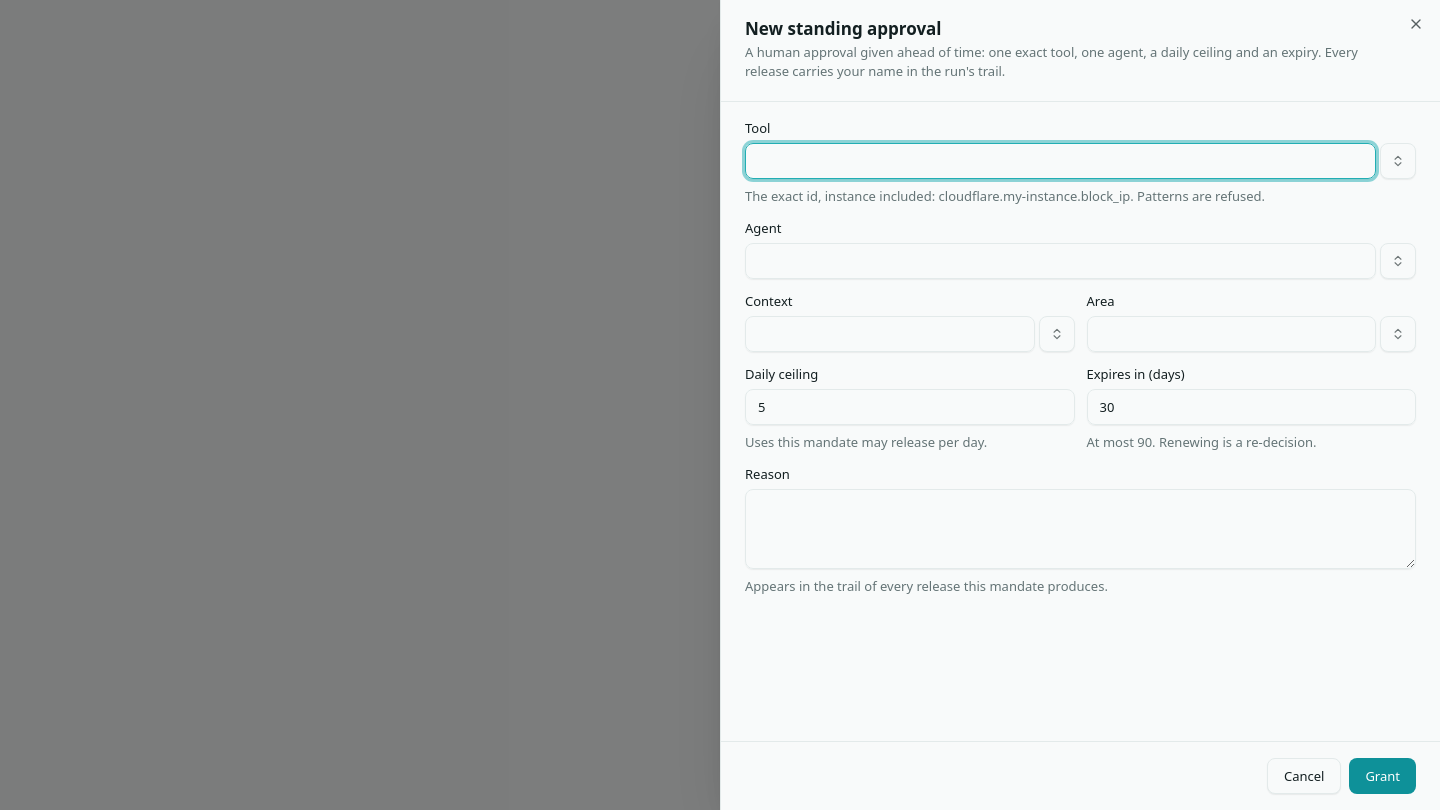
the standing approval form › offers the governed tools and the agents
Step 1. Click the dropdown named "Suggest governed tools" → (1398, 161), box x1=1380 y1=143 x2=1416 y2=179
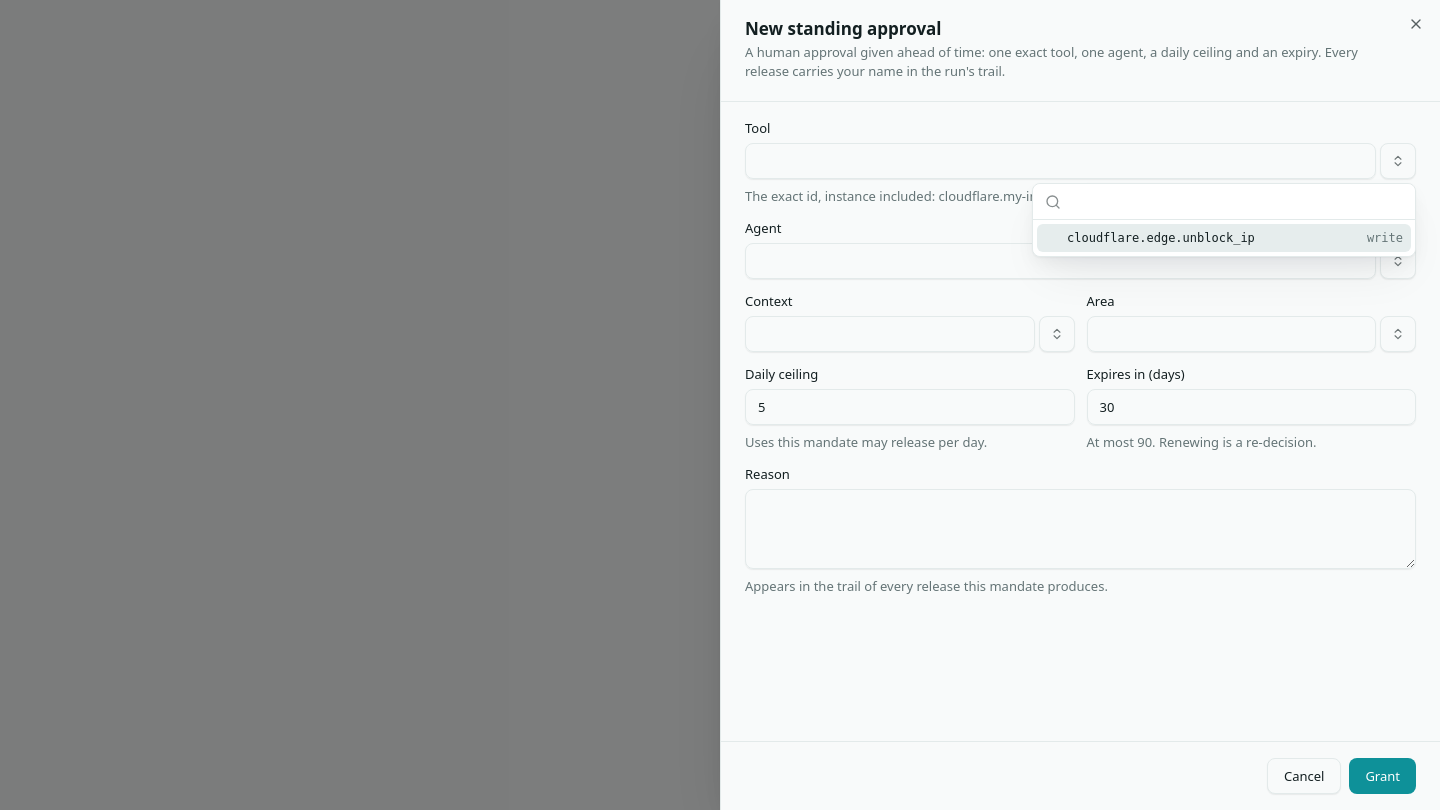
Step 2. Click the text "cloudflare.edge.unblock_ip" → (1161, 238), box x1=1067 y1=230 x2=1255 y2=246
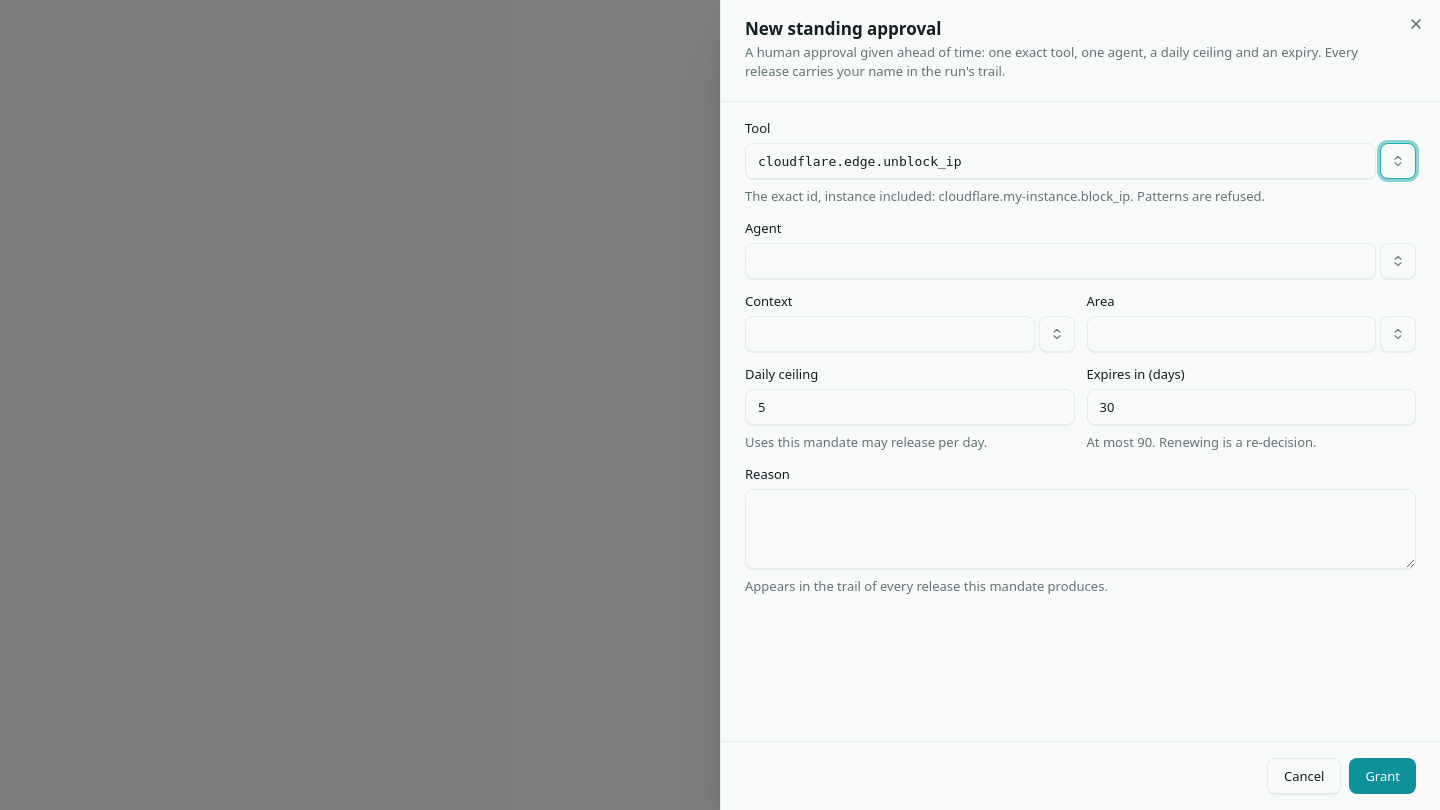
Expected: the field labelled "Tool" holds "cloudflare.edge.unblock_ip", x1=745 y1=143 x2=1376 y2=179
Step 3. Click the dropdown named "Suggest agents" → (1398, 261), box x1=1380 y1=243 x2=1416 y2=279
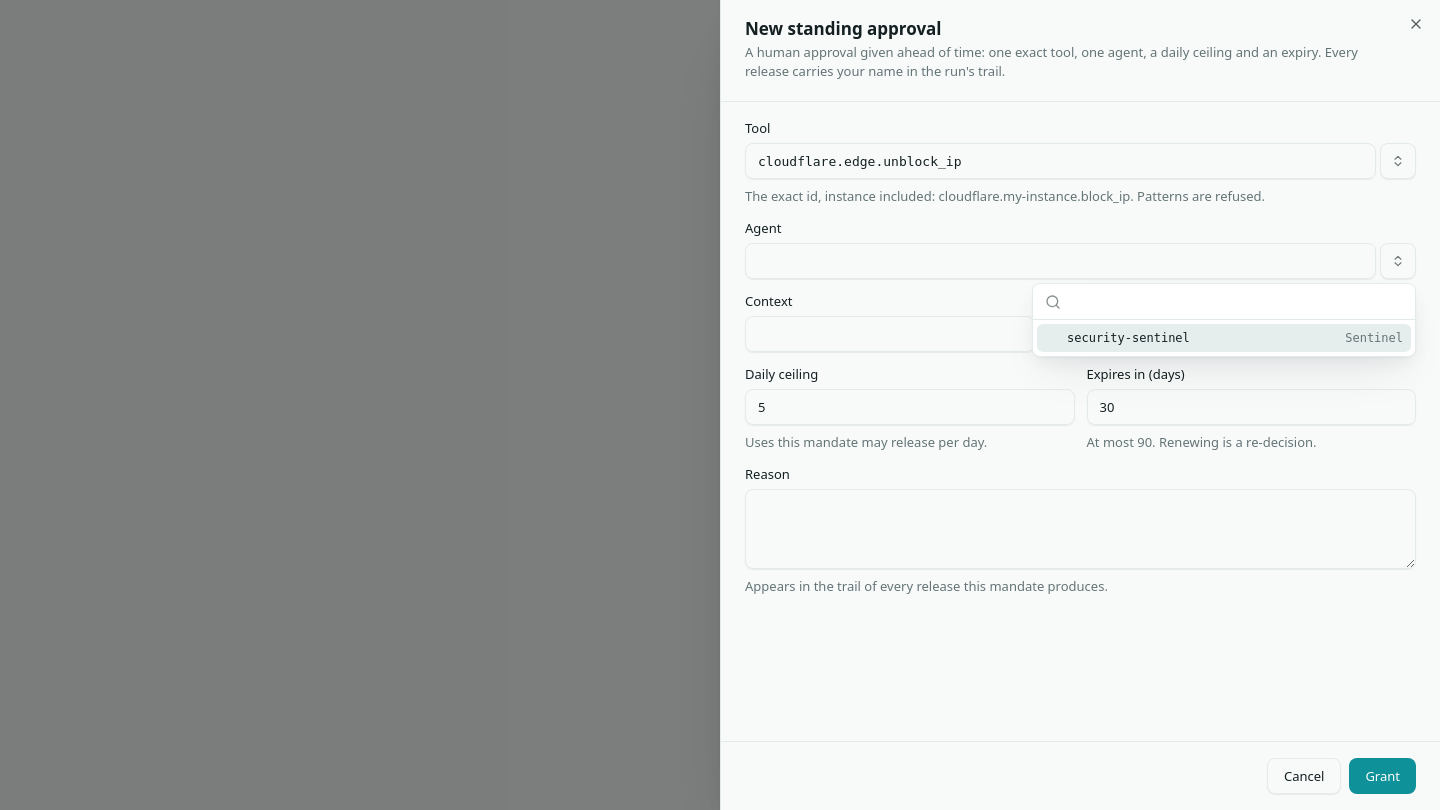
Step 4. Click the text "security-sentinel" → (1128, 338), box x1=1067 y1=330 x2=1190 y2=346
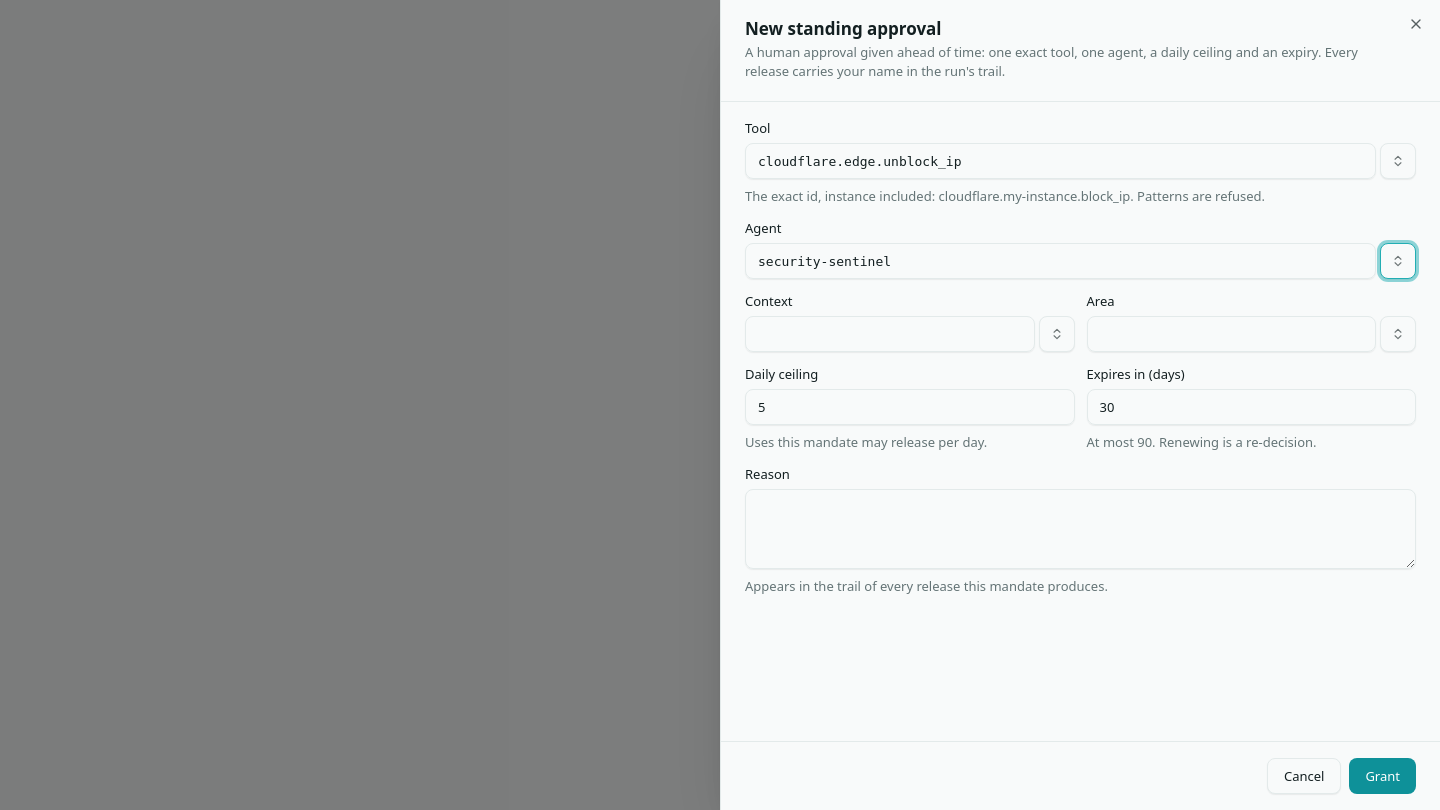
Expected: the field labelled "Agent" holds "security-sentinel", x1=745 y1=243 x2=1376 y2=279
